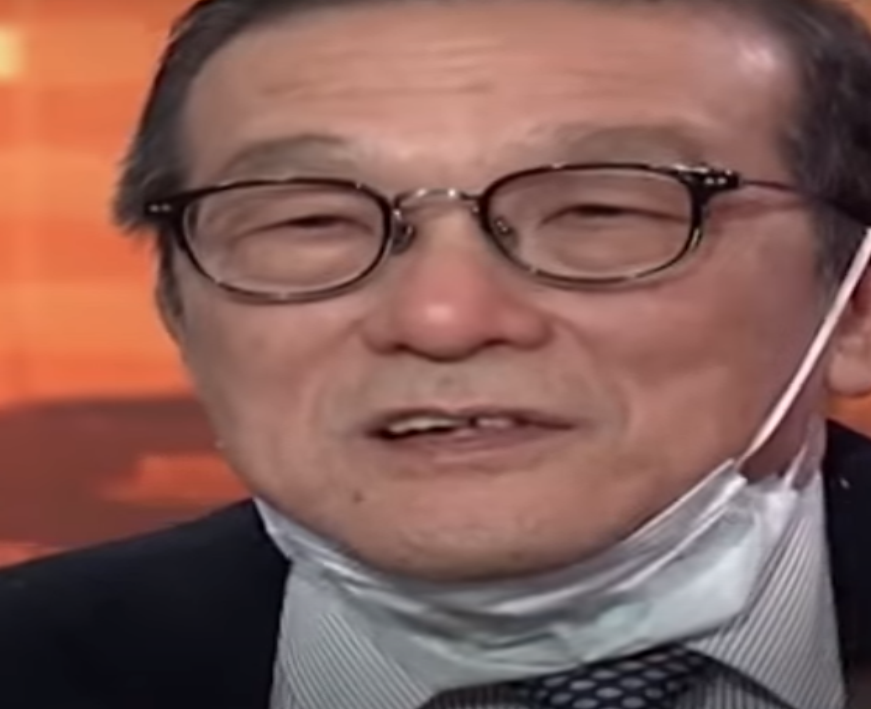mask_weared_incorrect: (118, 6, 870, 695)
